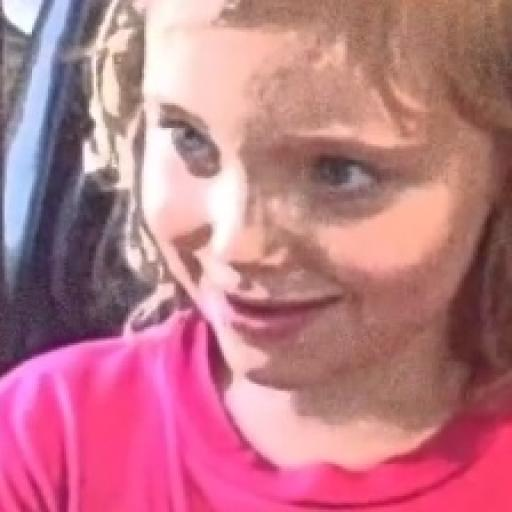Autism: (89, 14, 512, 414)
